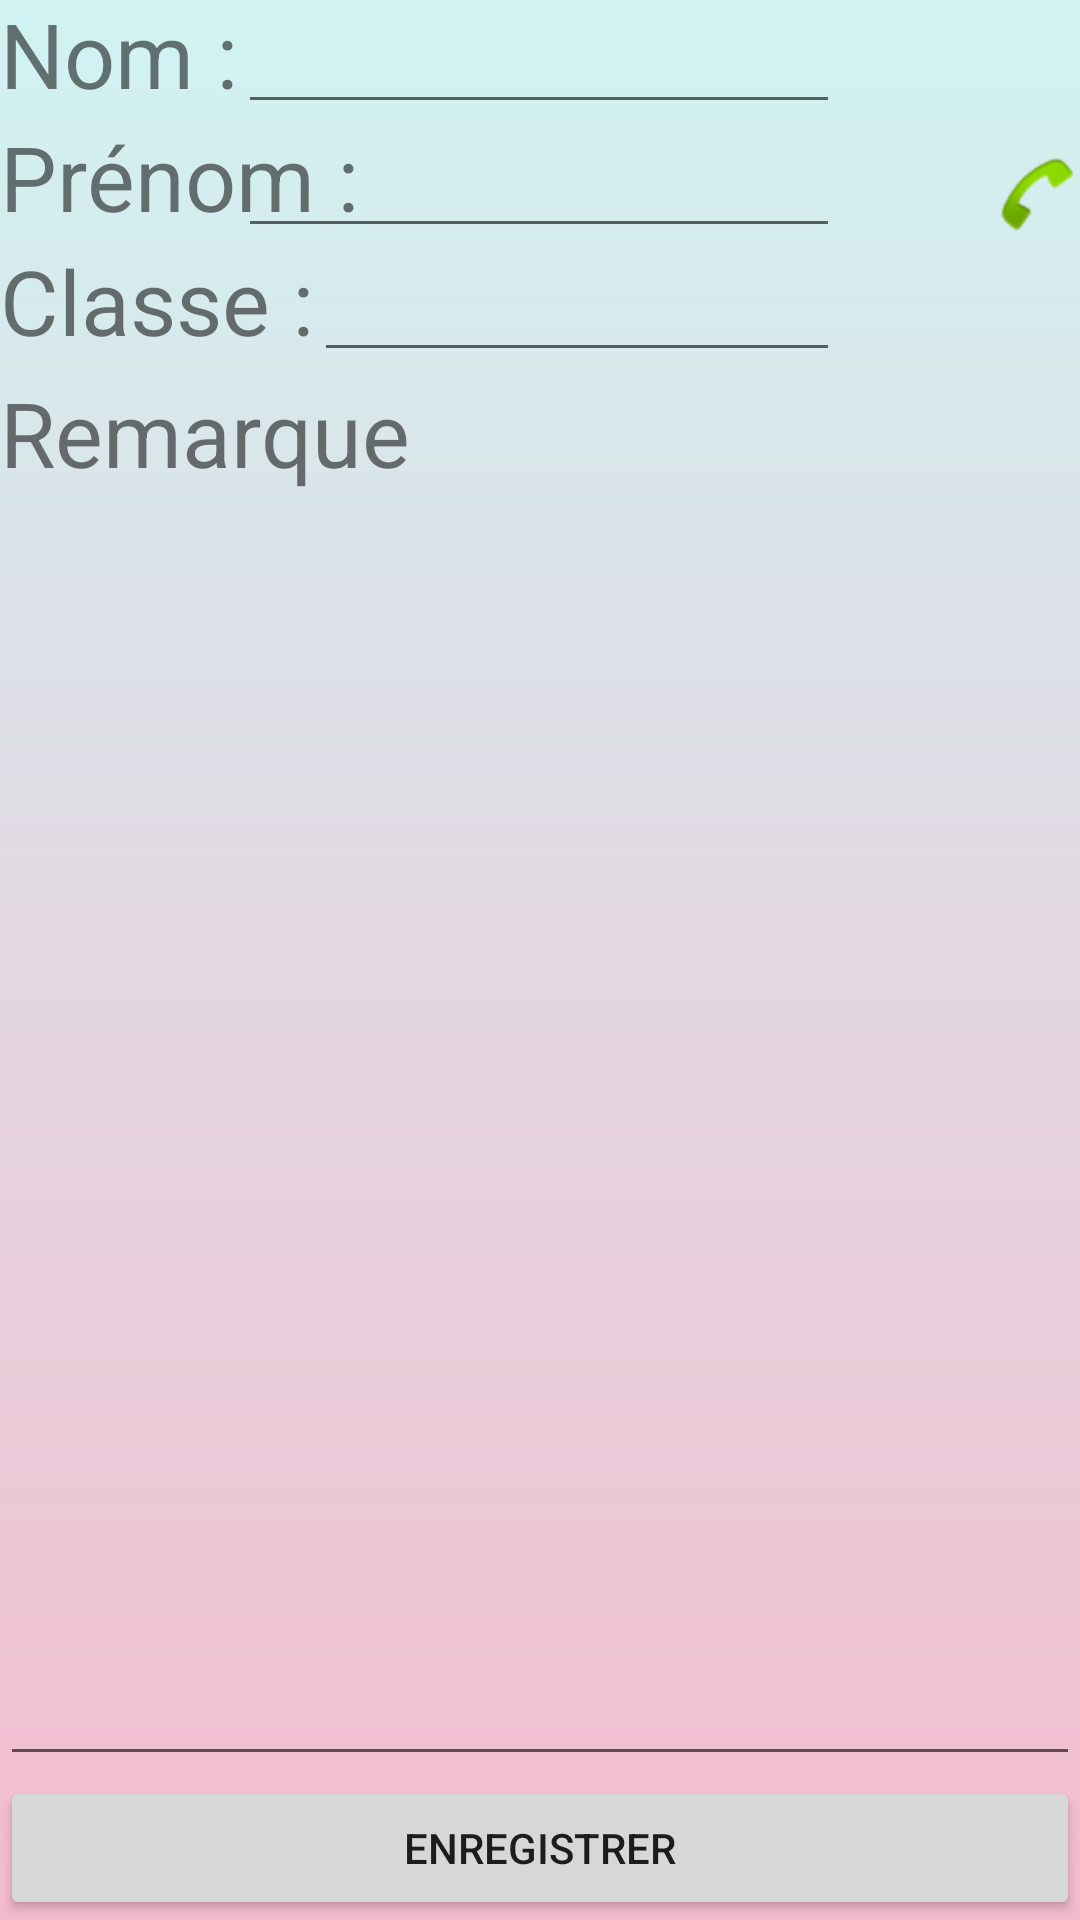

Icons on this 1080 x 1920 Android screen, each with its box as (x1, y1, x2, y2):
sym action call: (1001, 158, 1074, 231)
